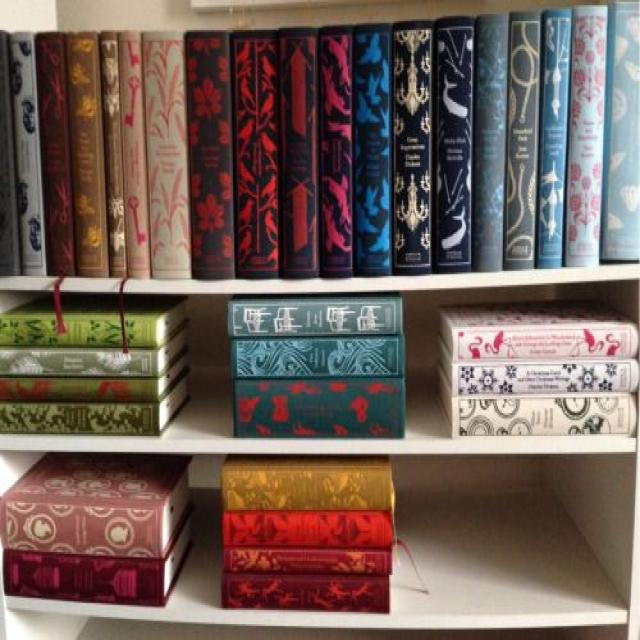book: (187, 31, 236, 281), (231, 29, 280, 278), (143, 32, 191, 279), (566, 6, 609, 265), (65, 32, 110, 276), (392, 21, 434, 275), (278, 28, 318, 278), (436, 17, 475, 273), (602, 0, 640, 261), (234, 380, 405, 438), (353, 23, 392, 277), (36, 32, 76, 278), (0, 498, 163, 557), (505, 10, 542, 269), (535, 9, 570, 267), (7, 32, 44, 275), (3, 552, 165, 607), (319, 24, 354, 277), (472, 14, 506, 271), (451, 396, 638, 438), (118, 32, 149, 279), (222, 467, 392, 511), (230, 337, 405, 378), (451, 360, 638, 397), (99, 31, 126, 277), (229, 300, 402, 336), (454, 325, 640, 358), (222, 513, 392, 548), (221, 578, 390, 612), (0, 31, 22, 275), (0, 403, 158, 434), (0, 316, 157, 344), (222, 550, 390, 575), (0, 377, 159, 403), (0, 352, 157, 378)
